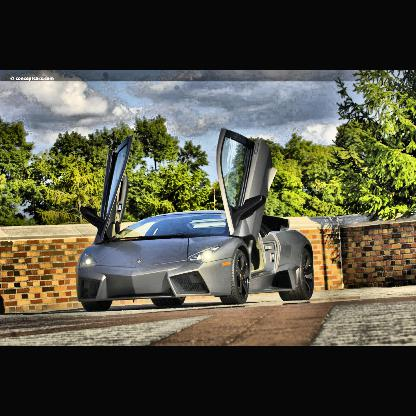Lamborghini Reventon Coupe 2008: (77, 128, 317, 311)
